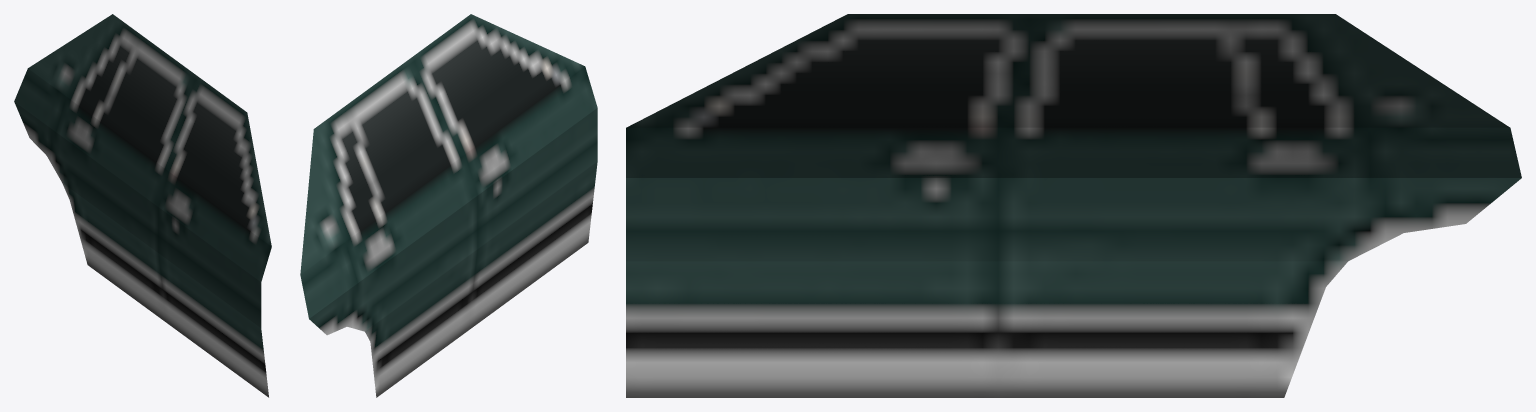
The model's file is sedan_green_door_FR.obj.
3 views of the same model, side by side, from view 1: azimuth 30°, elevation 25°; view 2: azimuth 150°, elevation 25°; view 3: azimuth 270°, elevation 25° (orthographic). The views are drawn at different scales.
Visible parts, largest first — view 1: Car5.door.FR.001, Car5.door.FR; view 2: Car5.door.FR.001, Car5.door.FR; view 3: Car5.door.FR.001, Car5.door.FR.
Boxes of the visible parts, x1,y1,x2,y2 form: Car5.door.FR.001: (14, 14, 271, 397); Car5.door.FR: (15, 15, 270, 395); Car5.door.FR.001: (300, 14, 597, 397); Car5.door.FR: (301, 15, 597, 396); Car5.door.FR.001: (626, 14, 1521, 397); Car5.door.FR: (626, 14, 1520, 397).
Size of the model in its own units: 0.3568 by 1.67 by 3.23.
